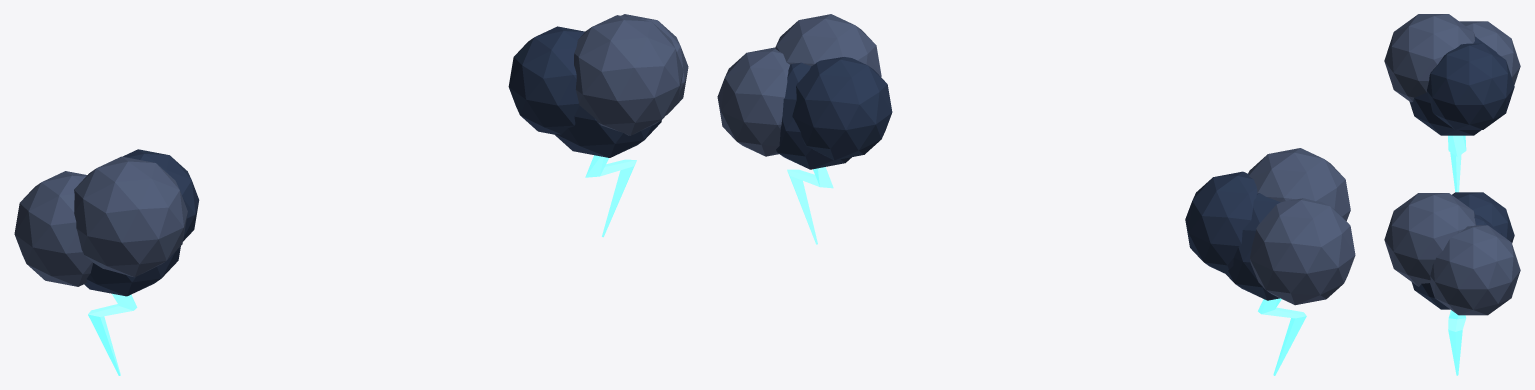
Rendered from stormcaller-og-v1-accessories.fbx.
3 views of the same model, side by side, from view 1: azimuth 30°, elevation 25°; view 2: azimuth 150°, elevation 25°; view 3: azimuth 270°, elevation 25° (orthographic). The views are drawn at different scales.
Visible parts, largest first — view 1: StormCloud_-1_3, StormCloud_1_3, StormCloud_-1_1, StormCloud_1_2, StormCloud_1_0, StormCloud_-1_0, StormCloud_-1_2, LightningFork_1, LightningFork_-1, StormCloud_1_1; view 2: StormCloud_-1_1, StormCloud_1_2, StormCloud_1_1, StormCloud_-1_2, StormCloud_-1_3, StormCloud_1_3, StormCloud_1_0, StormCloud_-1_0, LightningFork_1, LightningFork_-1; view 3: StormCloud_1_1, StormCloud_-1_2, StormCloud_1_3, StormCloud_-1_3, StormCloud_1_2, StormCloud_-1_1, StormCloud_-1_0, LightningFork_1, LightningFork_-1, StormCloud_1_0.
Boxes of the visible parts, x1,y1,x2,y2 form: StormCloud_-1_3: (74, 156, 187, 277); StormCloud_1_3: (574, 15, 683, 135); StormCloud_-1_1: (14, 171, 92, 286); StormCloud_1_2: (508, 26, 584, 134); StormCloud_1_0: (554, 105, 661, 157); StormCloud_-1_0: (84, 246, 180, 296); StormCloud_-1_2: (123, 149, 199, 241); LightningFork_1: (585, 155, 636, 237); LightningFork_-1: (88, 293, 137, 375); StormCloud_1_1: (621, 14, 688, 115); StormCloud_-1_1: (1250, 198, 1355, 305); StormCloud_1_2: (792, 57, 892, 160); StormCloud_1_1: (717, 47, 789, 156); StormCloud_-1_2: (1185, 171, 1257, 274); StormCloud_-1_3: (1248, 148, 1350, 220); StormCloud_1_3: (775, 14, 881, 76); StormCloud_1_0: (776, 62, 851, 169); StormCloud_-1_0: (1226, 193, 1280, 300); LightningFork_1: (787, 167, 833, 244); LightningFork_-1: (1258, 298, 1306, 375); StormCloud_1_1: (1430, 225, 1520, 315); StormCloud_-1_2: (1427, 43, 1514, 129); StormCloud_1_3: (1384, 193, 1475, 286); StormCloud_-1_3: (1384, 14, 1475, 102); StormCloud_1_2: (1452, 192, 1514, 243); StormCloud_-1_1: (1459, 21, 1520, 84); StormCloud_-1_0: (1409, 36, 1497, 135); LightningFork_1: (1448, 310, 1466, 375); LightningFork_-1: (1448, 135, 1466, 192); StormCloud_1_0: (1411, 214, 1502, 309).
Size of the model in its own units: 1858 by 669 by 414.
